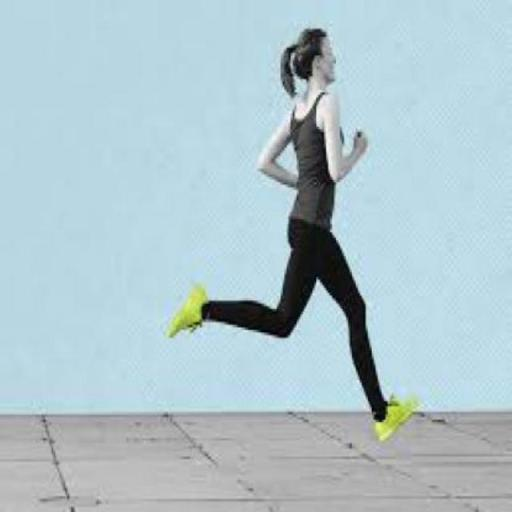Running: (132, 3, 434, 510)
